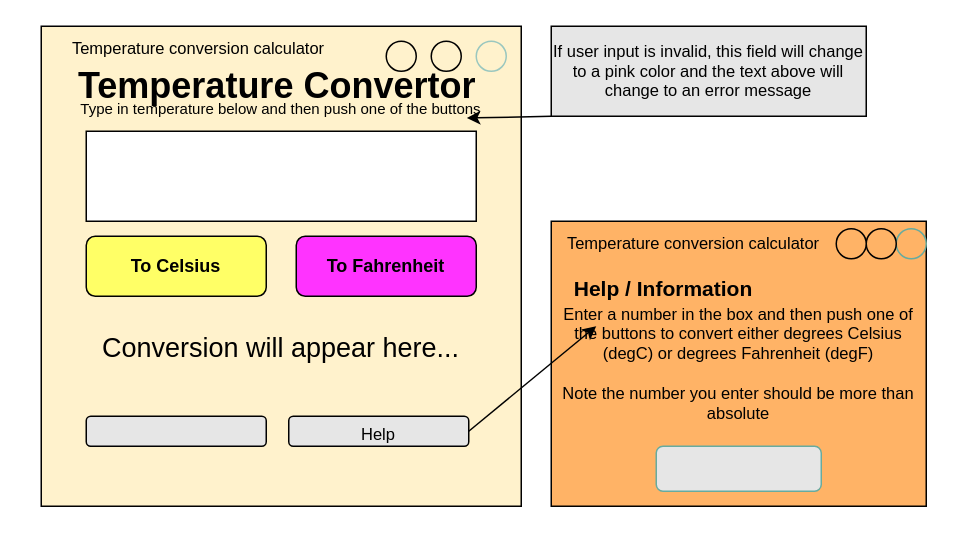
The diagram is 953 pixels wide and 533 high, and some of its shapes have lost their labels. Each missing label, with the centre of its shape:
Calculation History: [175,430]
Dismiss: [738,468]
